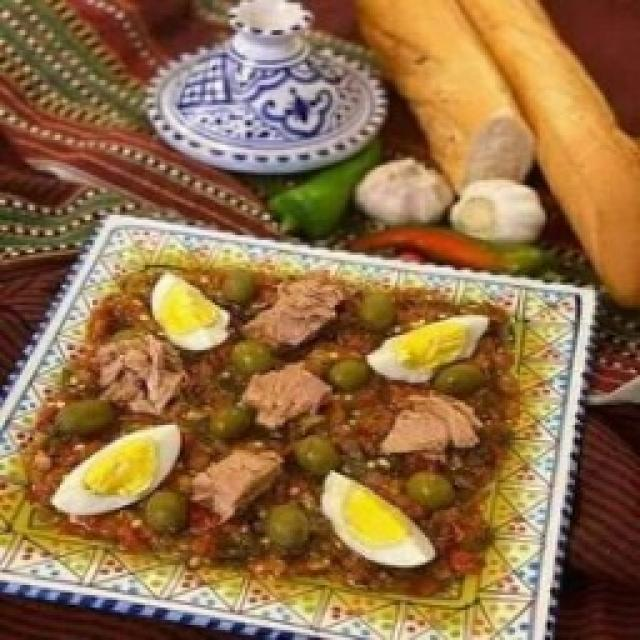Salade mechweya: (0, 230, 585, 640)
